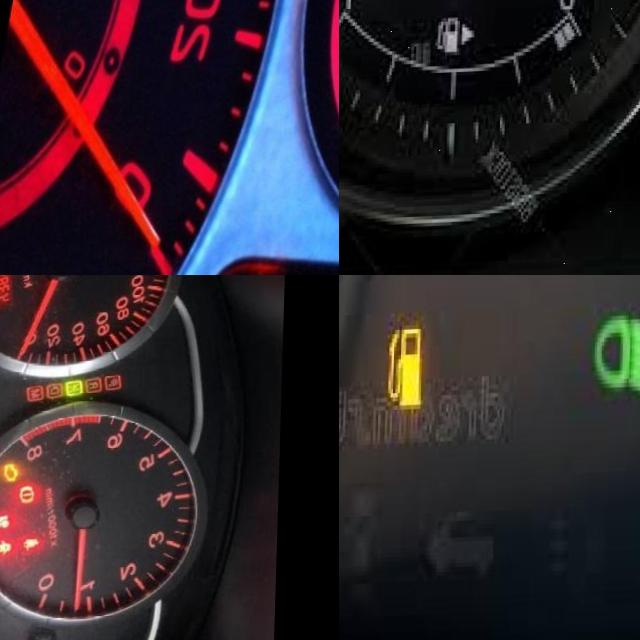Seat Belt: (26, 540, 43, 555)
